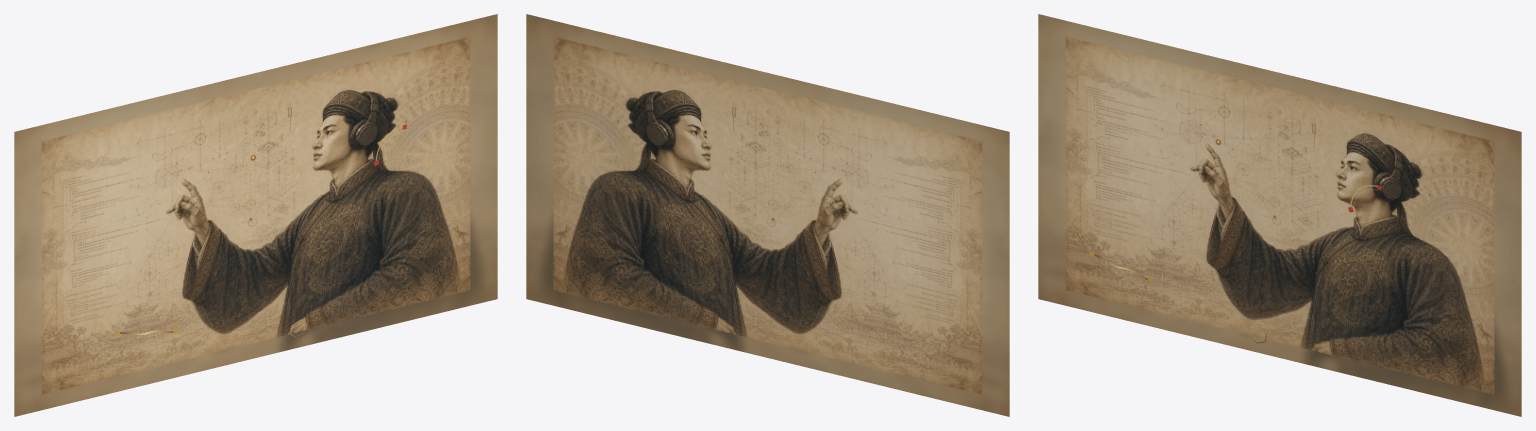
Rendered from Developer_bg_diffuse-optimized-25f2ed803a.glb.
3 views of the same model, side by side, from view 1: azimuth 30°, elevation 25°; view 2: azimuth 150°, elevation 25°; view 3: azimuth 330°, elevation 25° (orthographic).
Parts seen in each view (by area): view 1: Vietfolk_developer_background; view 2: Vietfolk_developer_background; view 3: Vietfolk_developer_background.
Boxes of the visible parts, x1,y1,x2,y2 form: Vietfolk_developer_background: [14, 14, 497, 416]; Vietfolk_developer_background: [526, 14, 1009, 416]; Vietfolk_developer_background: [1038, 14, 1521, 416].
Size of the model in its own units: 3.6 by 2.03 by 0.42.
5 materials, 5 textured.
